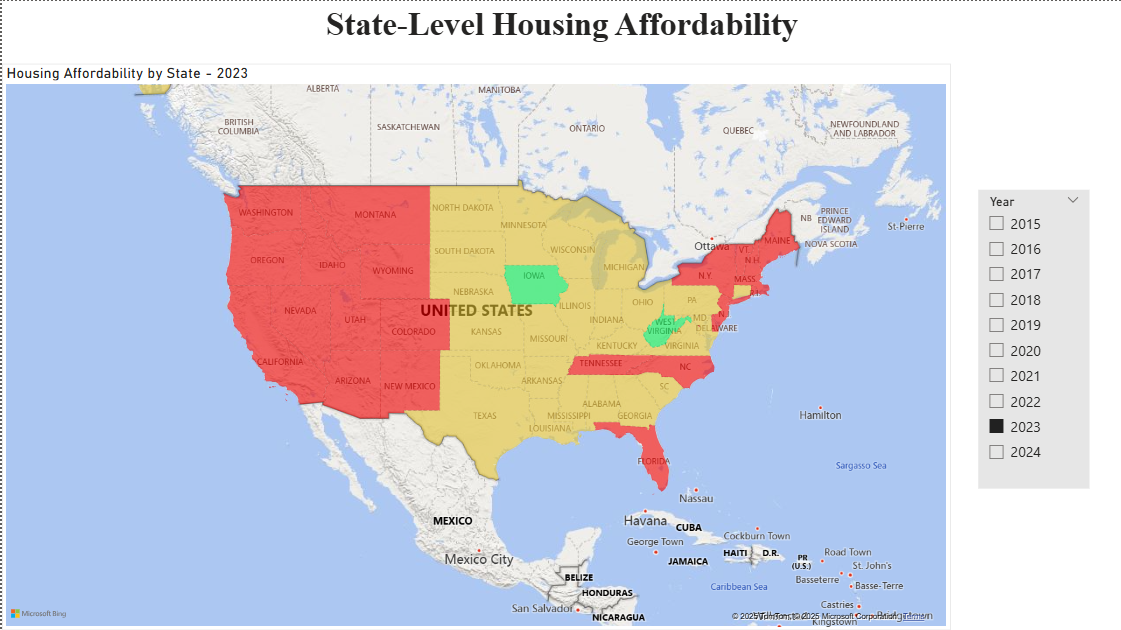

The dashboard page shown, as its layout file describes it:
{"tool":"powerbi","page":{"name":"State Map","canvas":[1280,720],"ordinal":1},"visuals":[{"type":"filledMap","fields":{"Category":["housing_analysis affordability.state"]},"box":[0,71.4,1084.3,648.6],"z":0},{"type":"slicer","fields":{"Values":["housing_analysis affordability.year"]},"box":[1115.7,215.7,127.1,341.4],"z":1000},{"type":"textbox","box":[0,0,1280,71.4],"z":2000}]}

Visuals, with their boxes in screenshot pixels (x1, y1, x2, y2), scaled from the page's 1280x720 canvas onto the 1121x630 screenshot:
filledMap - housing_analysis affordability.state: box(0, 62, 950, 629)
slicer - housing_analysis affordability.year: box(977, 189, 1088, 487)
textbox: box(0, 0, 1120, 62)
